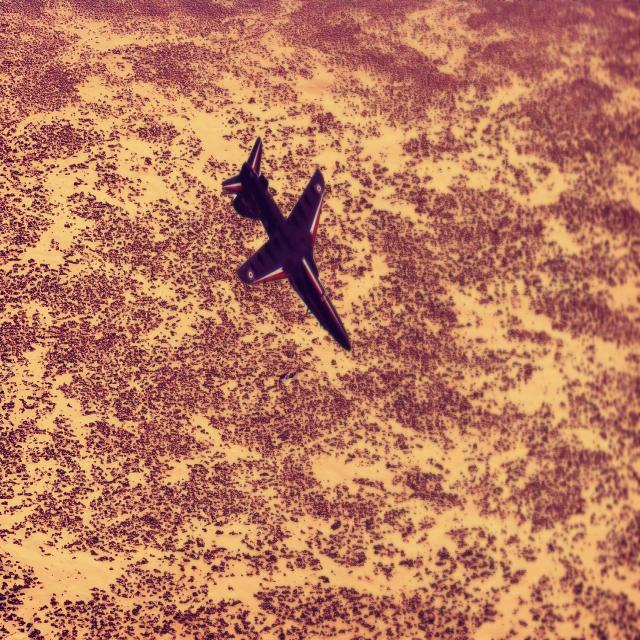airplane: (221, 135, 351, 352)
